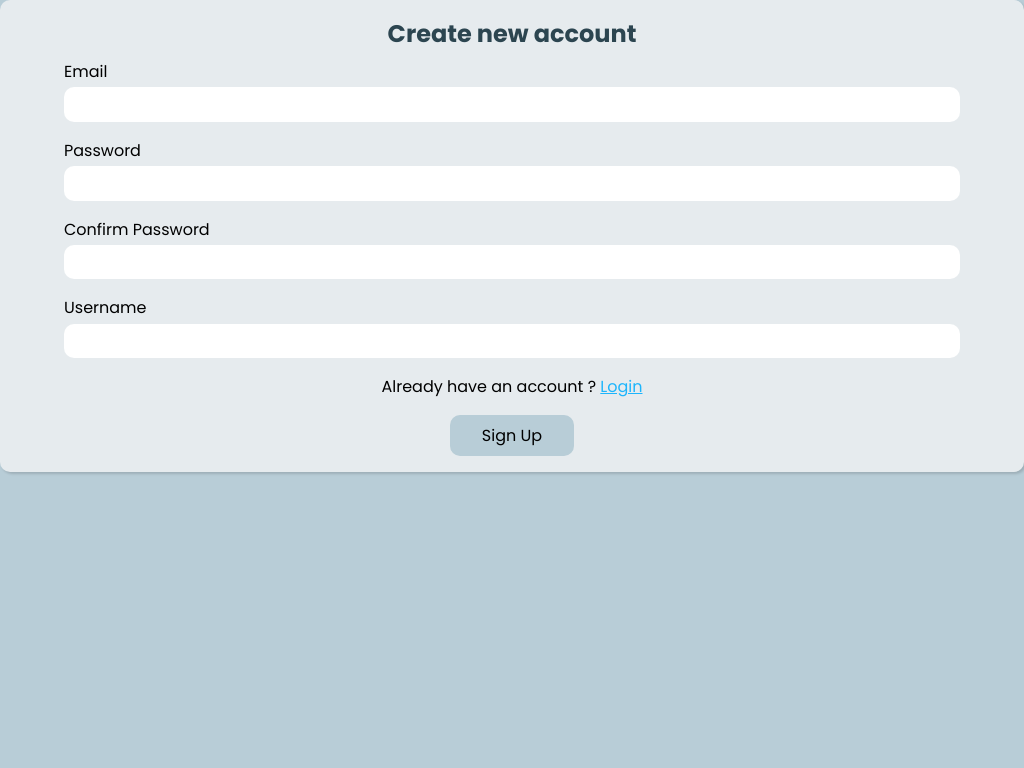
Test: (SignUpForm) Component › Error should display if sign up failed
This screenshot has width=1024, height=768.
# user interaction
In the field with test id "email": [512, 104] box 64,87 -> 960,122, type "validEmail@gmail.com"
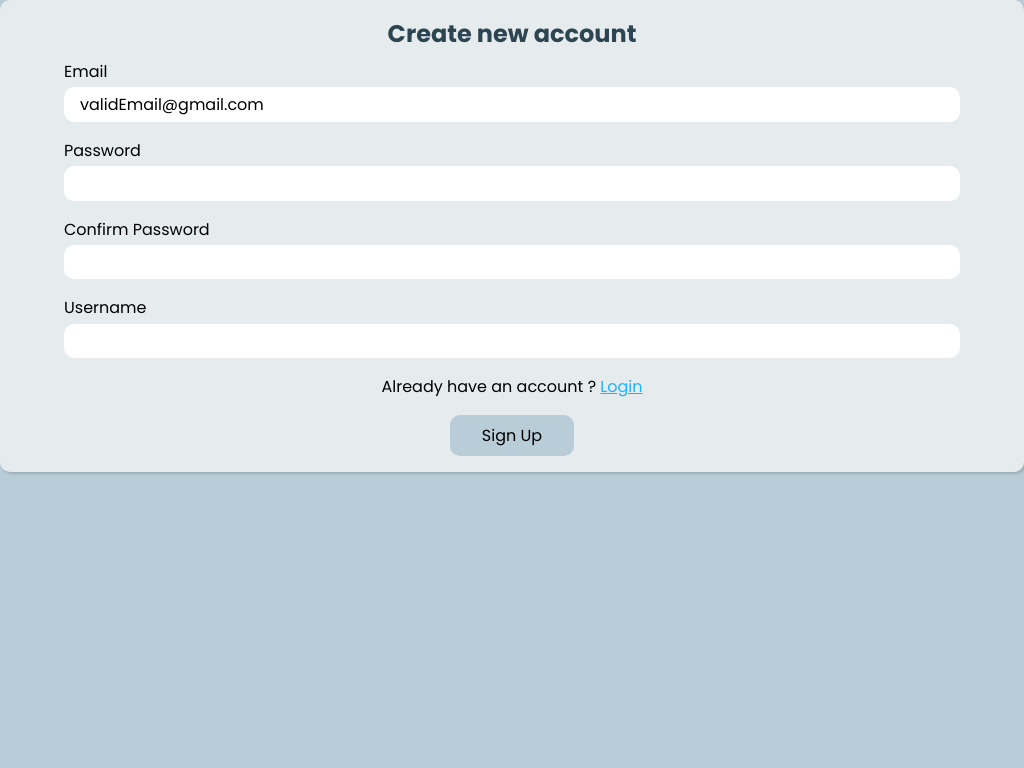
In the password field with test id "password": [512, 183] box 64,166 -> 960,201, type "123456"
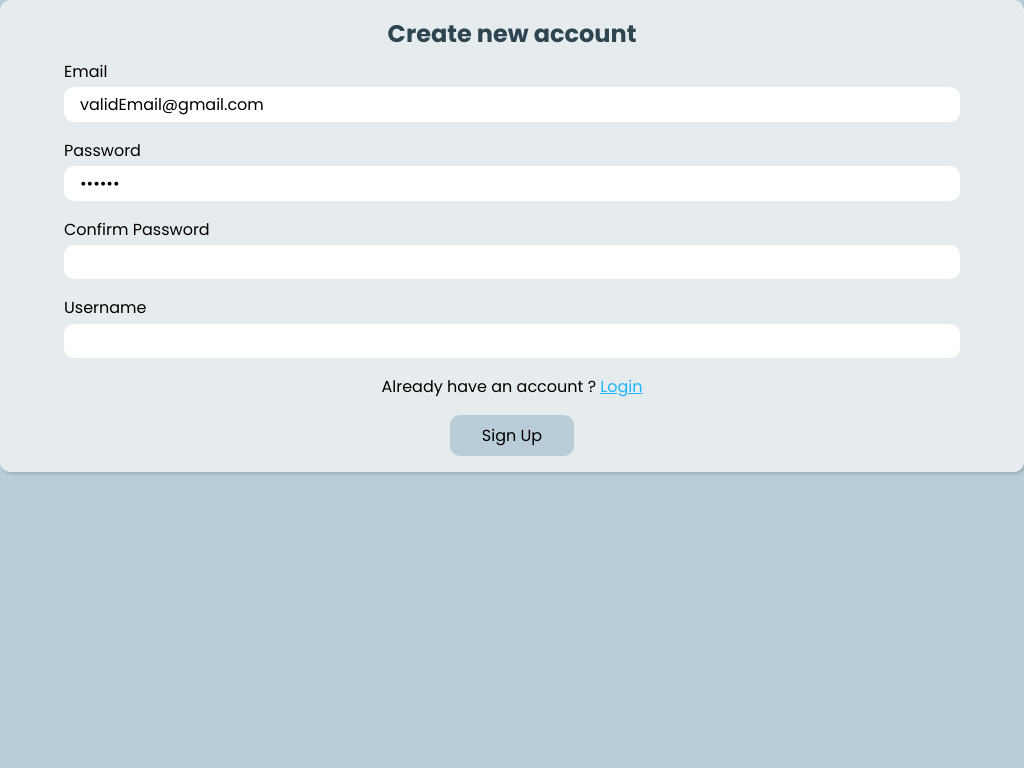
In the password field with test id "confirmPassword": [512, 262] box 64,245 -> 960,279, type "123456"
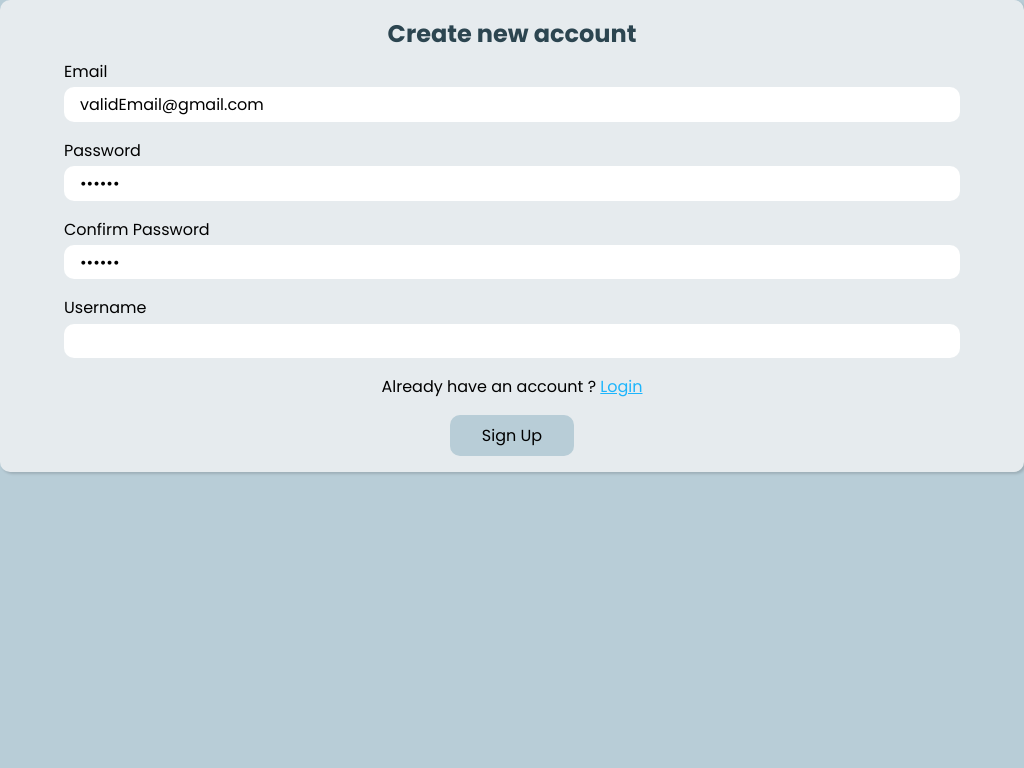
In the field with test id "username": [512, 341] box 64,324 -> 960,358, type "user"
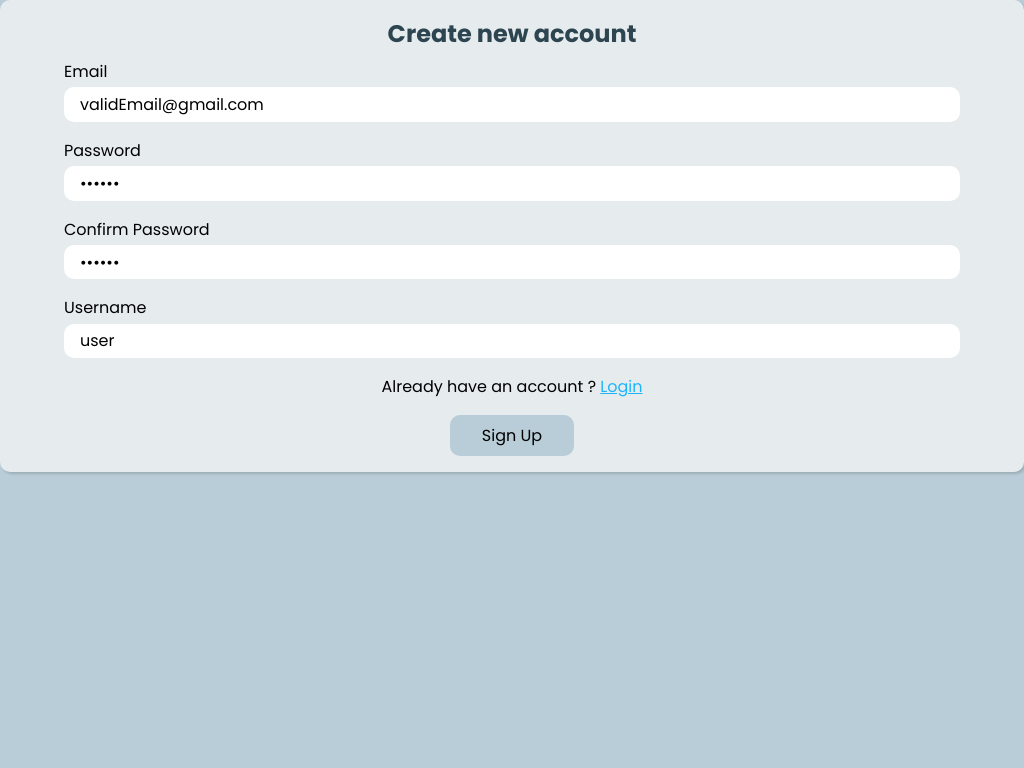
Click the button with test id "signUp-btn": [512, 436] box 450,415 -> 574,456
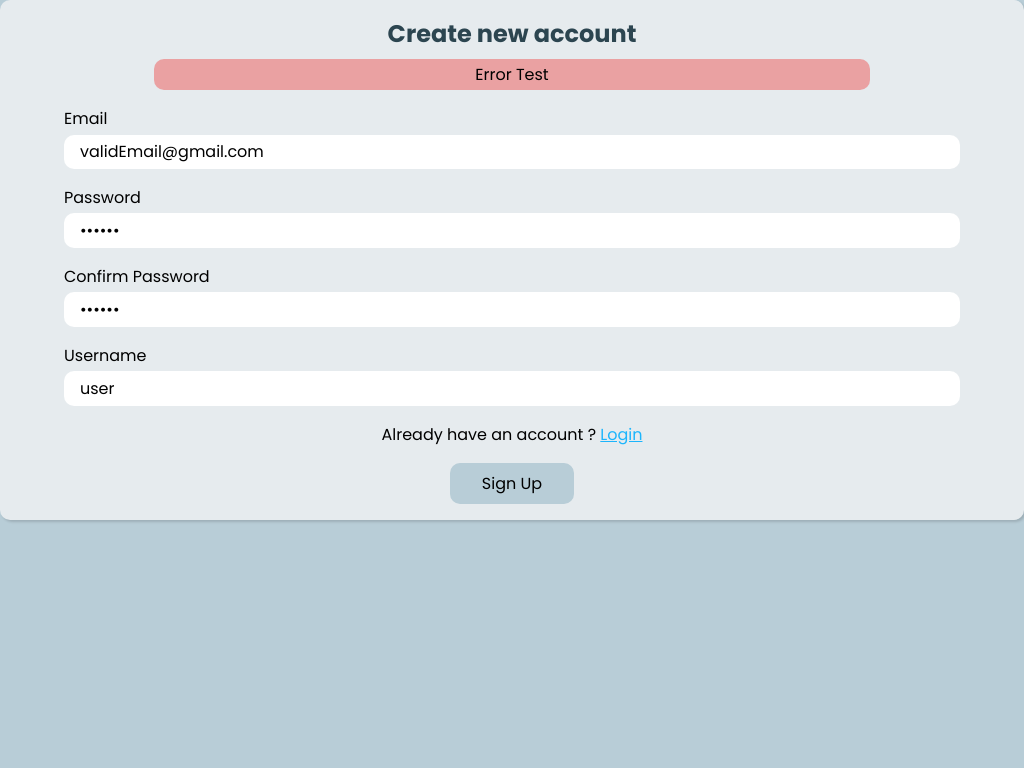
expect the text "Error Test" is shown: met, box 154,59 -> 870,90
